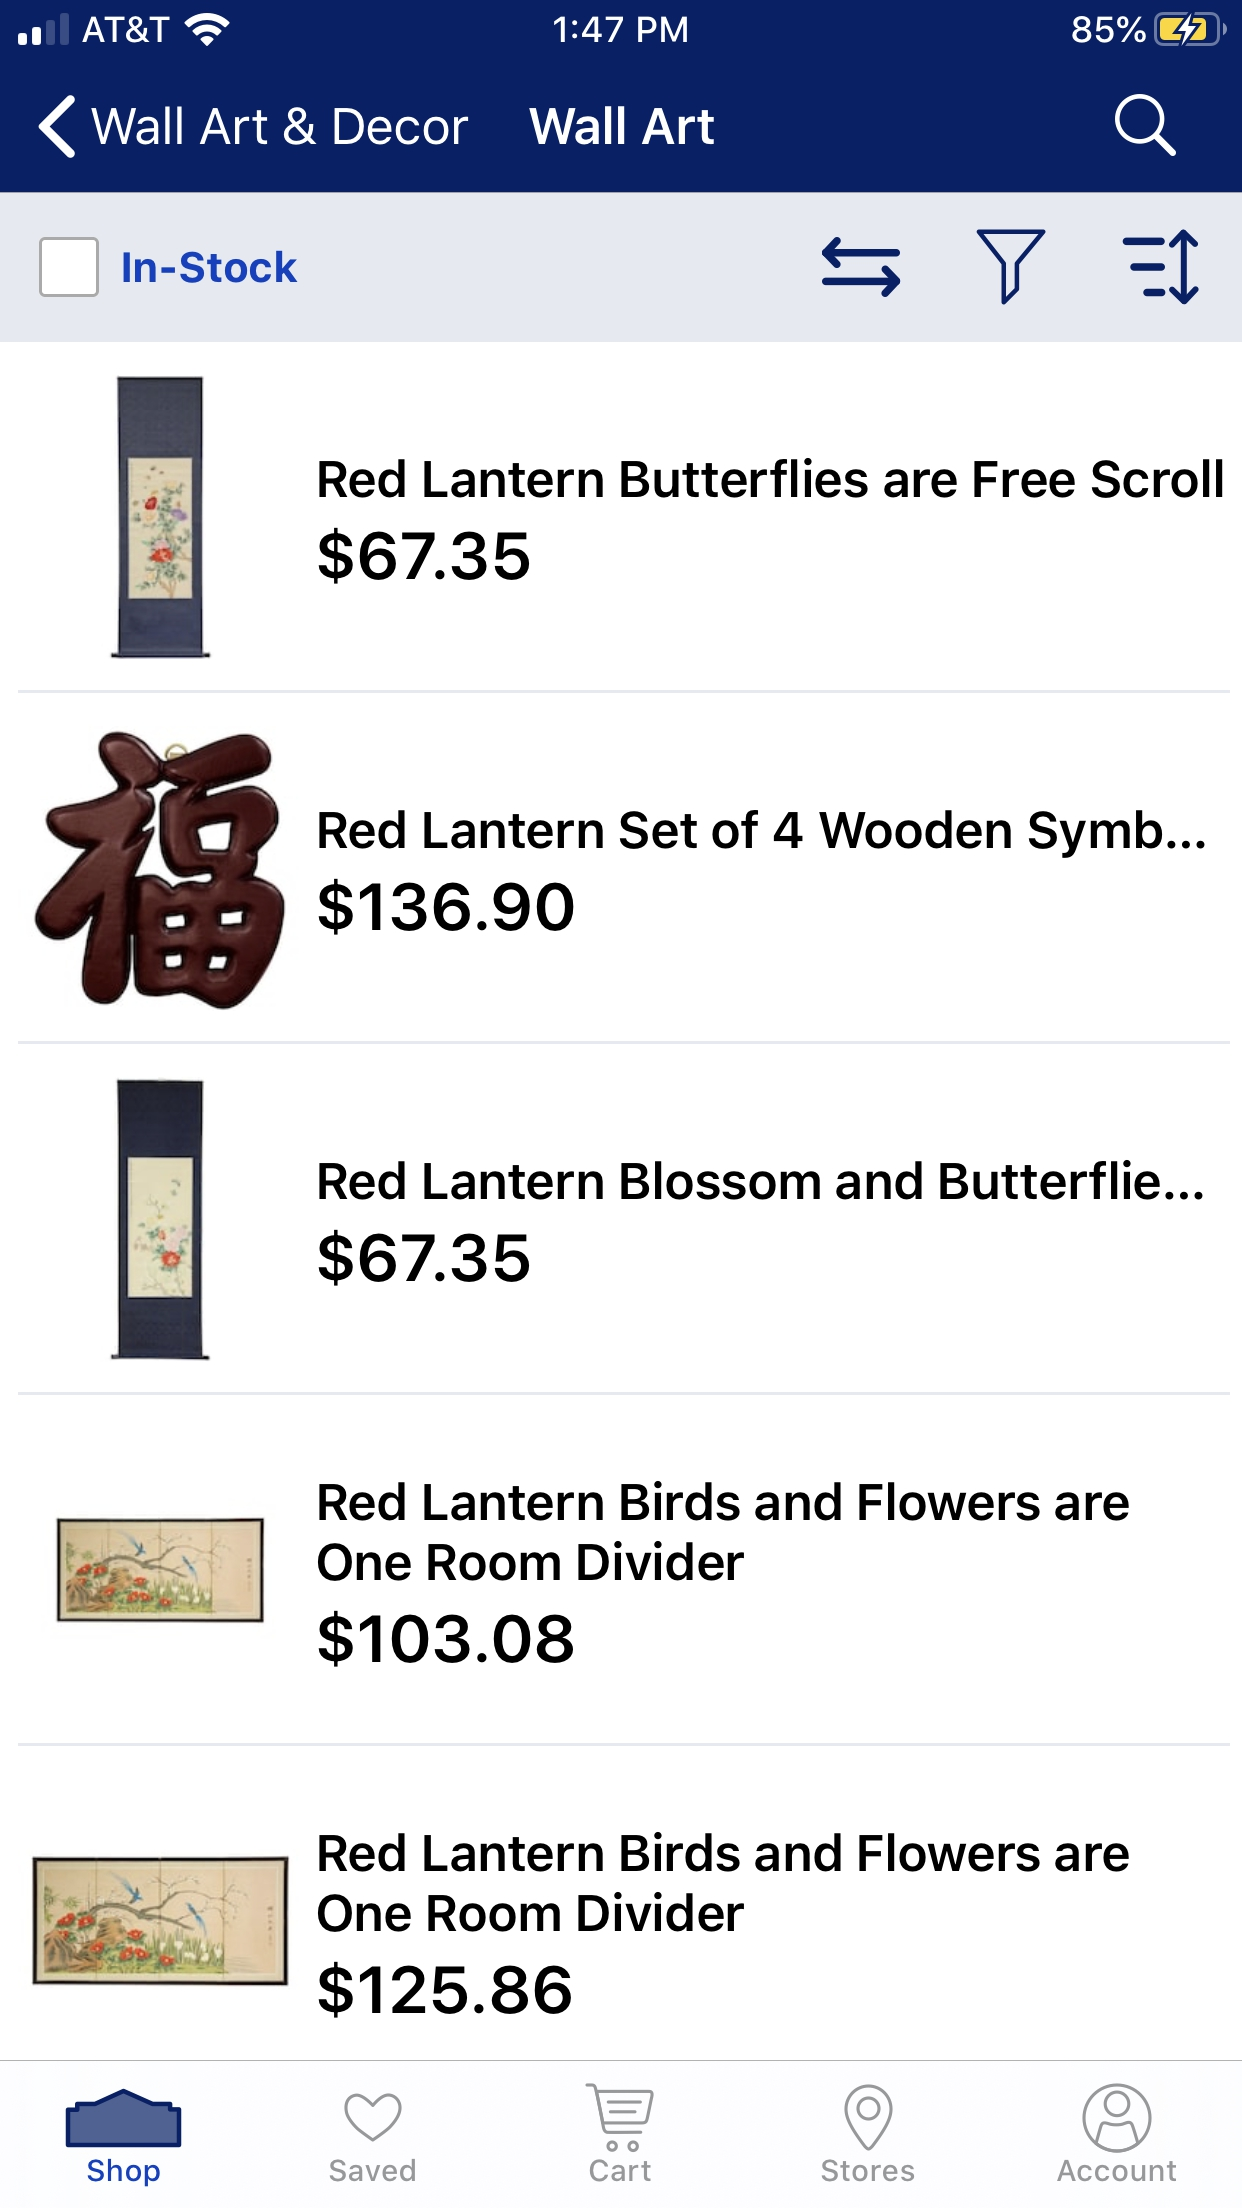CheckedTextView: (39, 238, 299, 299)
Icon: (1121, 229, 1200, 306), (820, 237, 901, 299), (1081, 2084, 1153, 2153), (585, 2084, 654, 2152), (1115, 94, 1175, 158), (845, 2085, 893, 2150), (346, 2094, 402, 2141), (39, 96, 77, 161)
Image: (35, 732, 285, 1010), (33, 1858, 290, 1987), (114, 378, 212, 658), (112, 1080, 211, 1360), (58, 1518, 265, 1623), (67, 2088, 182, 2147), (975, 229, 1046, 306)
Text: (317, 1833, 1128, 1934), (318, 1482, 1128, 1582), (320, 810, 1206, 858), (318, 458, 1224, 499), (318, 1160, 1203, 1201), (93, 108, 469, 147), (318, 880, 575, 936), (318, 1611, 575, 1667), (318, 1962, 572, 2018), (318, 528, 529, 585), (318, 1230, 529, 1287), (529, 108, 716, 146), (123, 252, 299, 284), (1057, 2159, 1175, 2181), (820, 2159, 914, 2182), (88, 2159, 161, 2187), (331, 2159, 416, 2181), (590, 2159, 651, 2181)
UpperTaskBar: (2, 2, 1242, 49)
